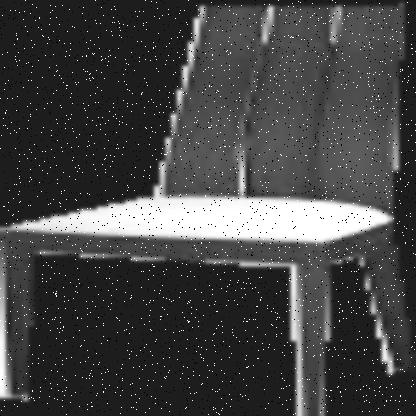chair: (0, 2, 416, 416)
